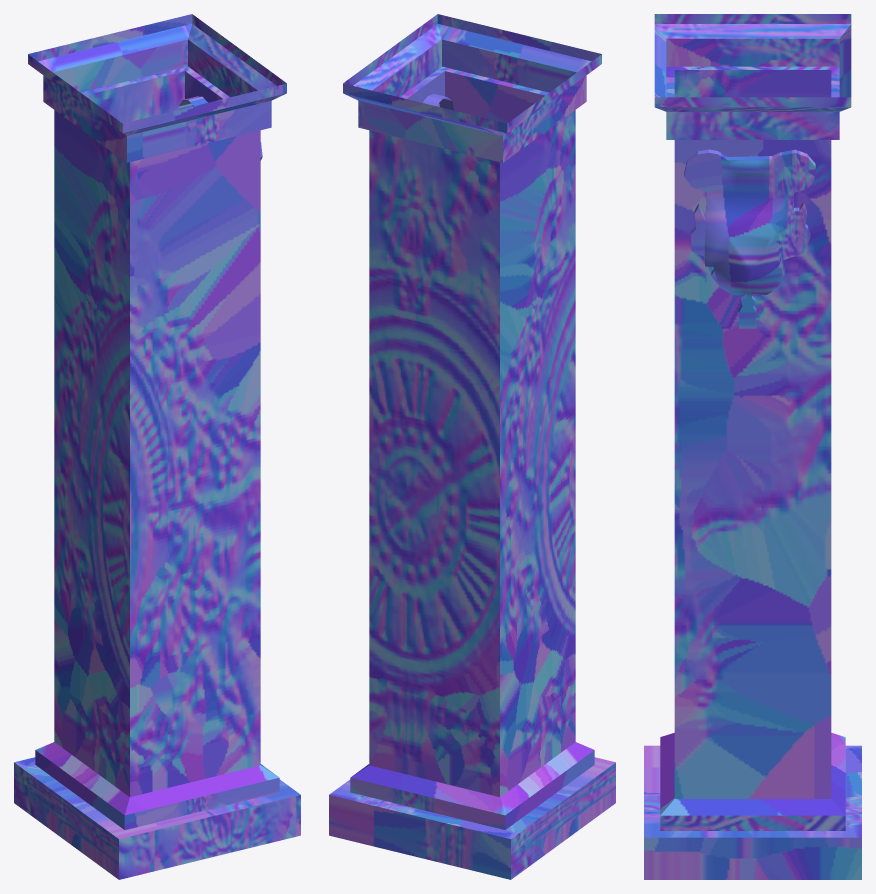
3 renders of one model, left to right at view 1: azimuth 30°, elevation 25°; view 2: azimuth 150°, elevation 25°; view 3: azimuth 270°, elevation 25°, orthographic. The views are drawn at different scales.
Visible parts, largest first — view 1: DDDDDDDDD06; view 2: DDDDDDDDD06; view 3: DDDDDDDDD06.
Boxes of the visible parts, box(x1,y1,x2,y2) form: DDDDDDDDD06: box(14, 14, 300, 879); DDDDDDDDD06: box(329, 14, 615, 879); DDDDDDDDD06: box(644, 14, 861, 879).
Size of the model in its own units: 222 by 876 by 222.
